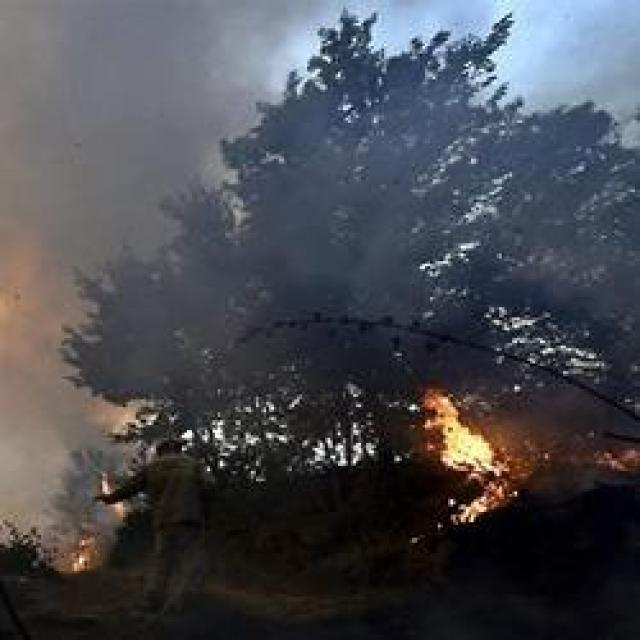Fire: (420, 391, 521, 526)
Smoke: (0, 0, 266, 394)
